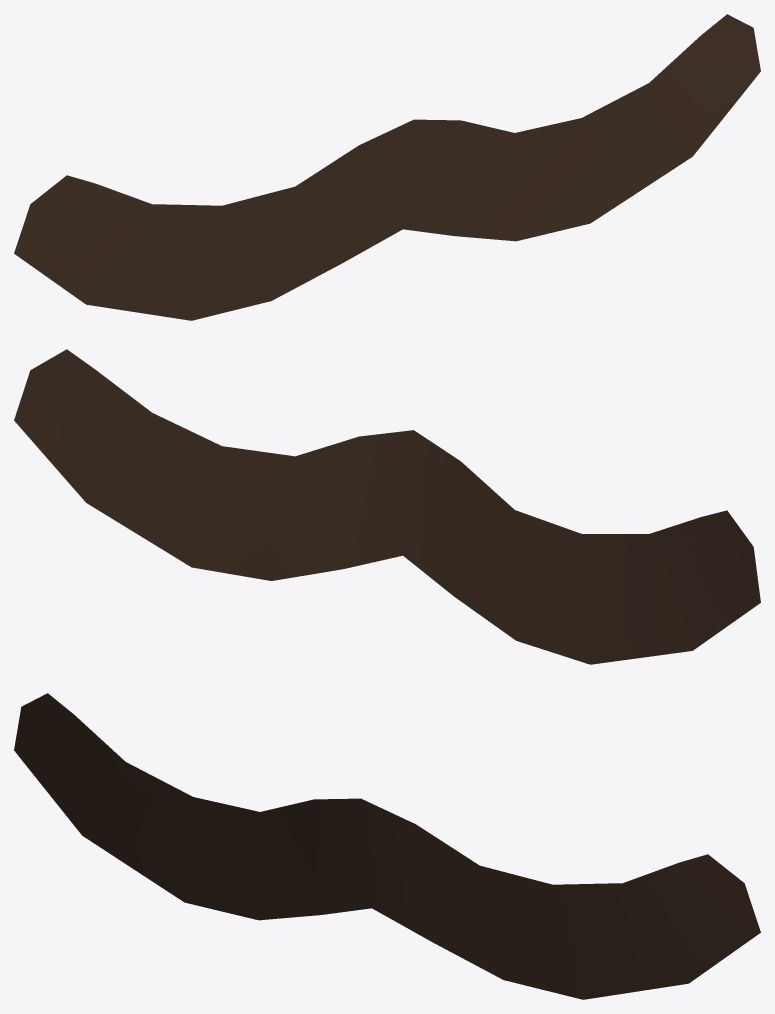
The model's file is Mouth_1.fbx.
3 renders of one model, top to bottom at view 1: azimuth 30°, elevation 25°; view 2: azimuth 150°, elevation 25°; view 3: azimuth 330°, elevation 25°, orthographic.
Parts seen in each view (by area): view 1: Mouth_1; view 2: Mouth_1; view 3: Mouth_1.
Part boxes in pixels (x1,y1,x2,y2): Mouth_1: (14,14,760,320); Mouth_1: (14,349,760,664); Mouth_1: (14,693,760,999).
Bounding box in the file's own units: 7.94 × 1.85 × 0.4854.
